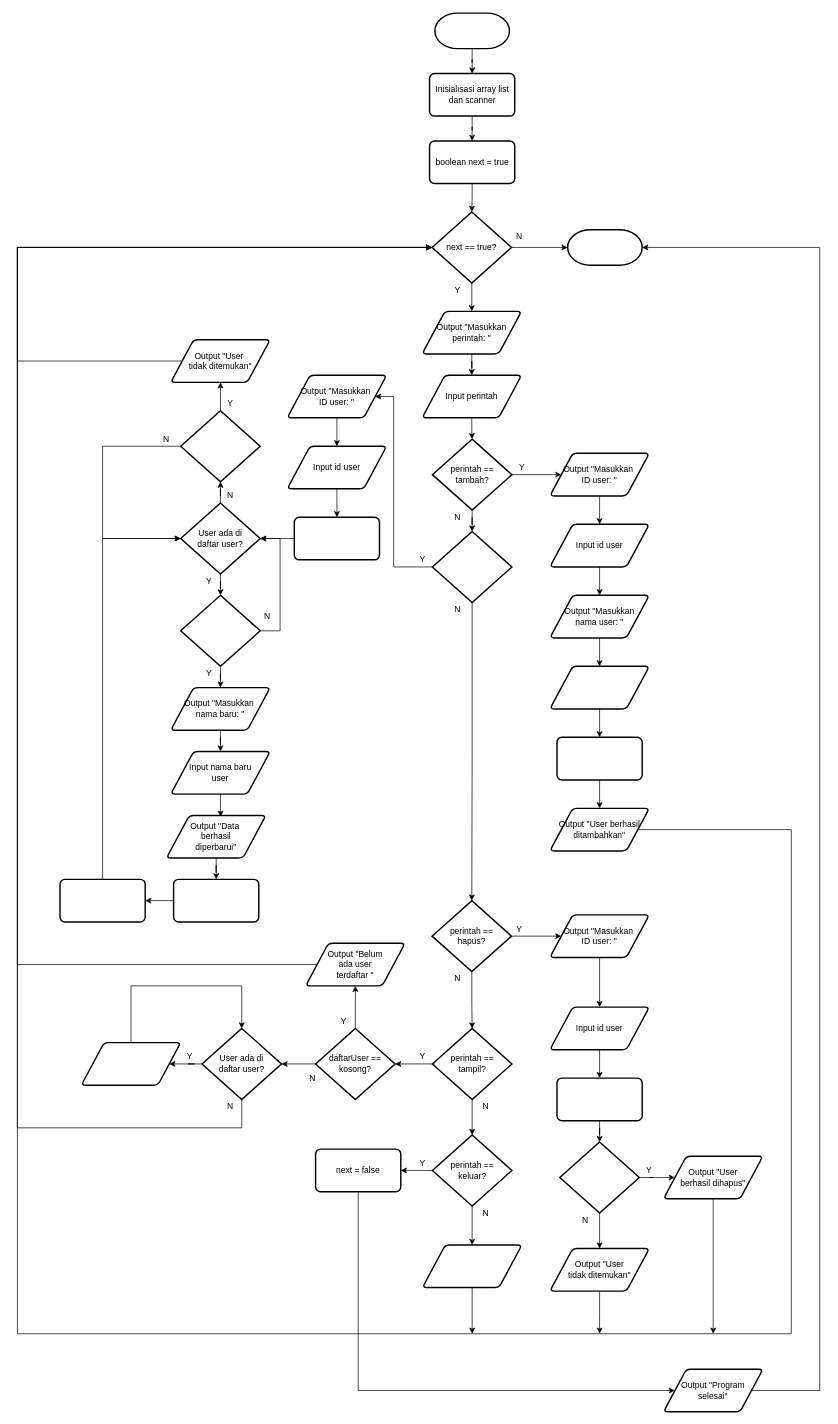
Some shapes in this 838 by 1424 pixel diagram are drawn without their labels. Each missing label, with the centre of its shape:
boolean found = false: (336,538)
boolean removed = daftarUser.removedif (user.id == id user): (599,1099)
break: (102,900)
End: (605,247)
found != true?: (220,446)
found = true: (216,900)
Input nama user: (599,687)
Output "Perintah tidak valid": (471,1266)
Output user: (130,1064)
perintah == edit?: (471,566)
removed == true?: (599,1177)
Start: (472,30)
User ditambah dalam array list: (599,758)
user.id == id user?: (220,630)
